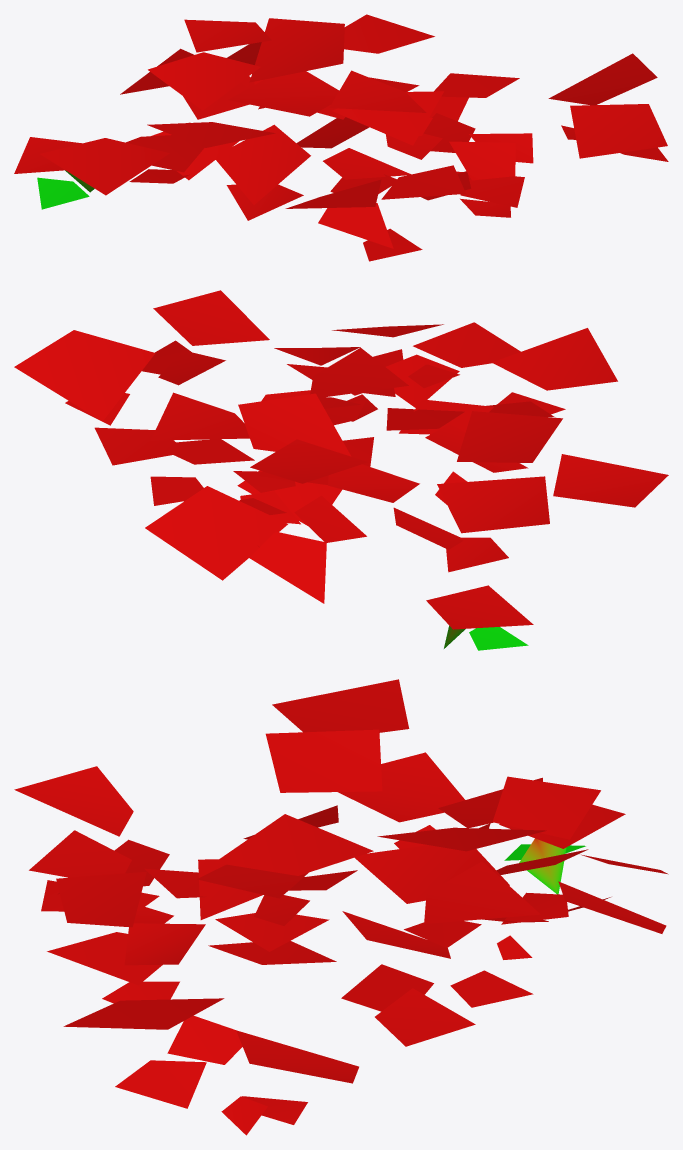
The model's file is Var3_LOD5.fbx.
3 views of the same model, one above another, from view 1: azimuth 30°, elevation 25°; view 2: azimuth 150°, elevation 25°; view 3: azimuth 270°, elevation 25° (orthographic). The views are drawn at different scales.
Visible parts, largest first — view 1: _f9xy_Var3_LOD5; view 2: _f9xy_Var3_LOD5; view 3: _f9xy_Var3_LOD5.
Boxes of the visible parts, <box> form: _f9xy_Var3_LOD5: <box>14,14,668,261</box>; _f9xy_Var3_LOD5: <box>14,290,668,650</box>; _f9xy_Var3_LOD5: <box>14,679,668,1135</box>.
Size of the model in its own units: 58.73 by 13.72 by 44.08.
